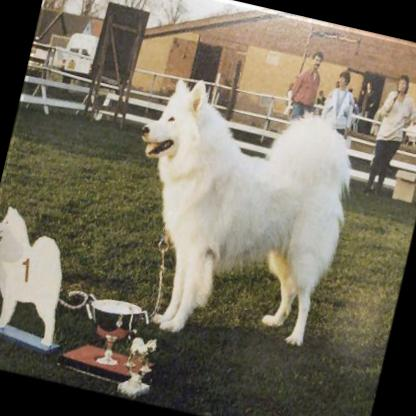Samoyed: (96, 66, 371, 364)
